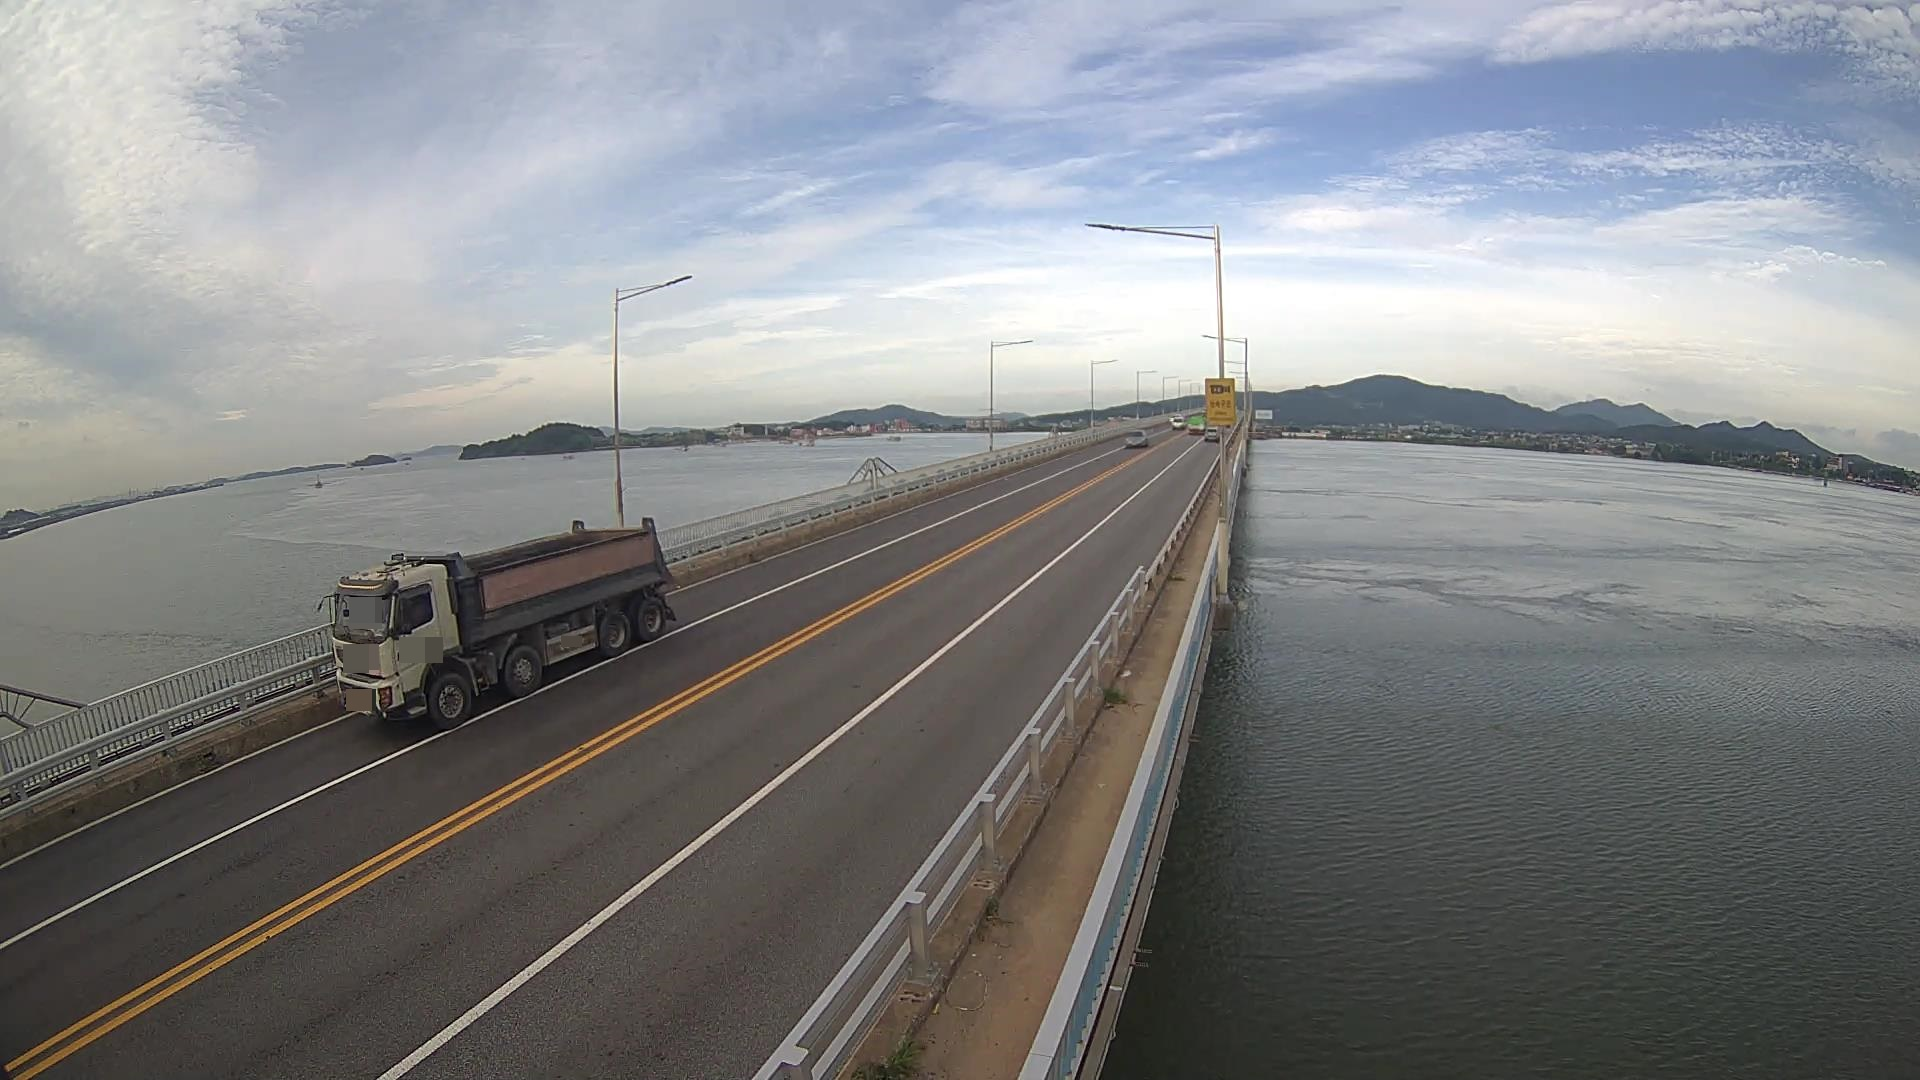정상차량: (318, 517, 678, 729)
